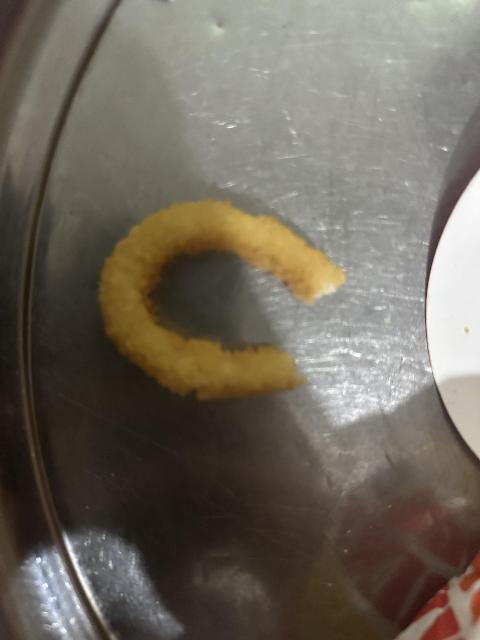Organik: (97, 206, 325, 398)
